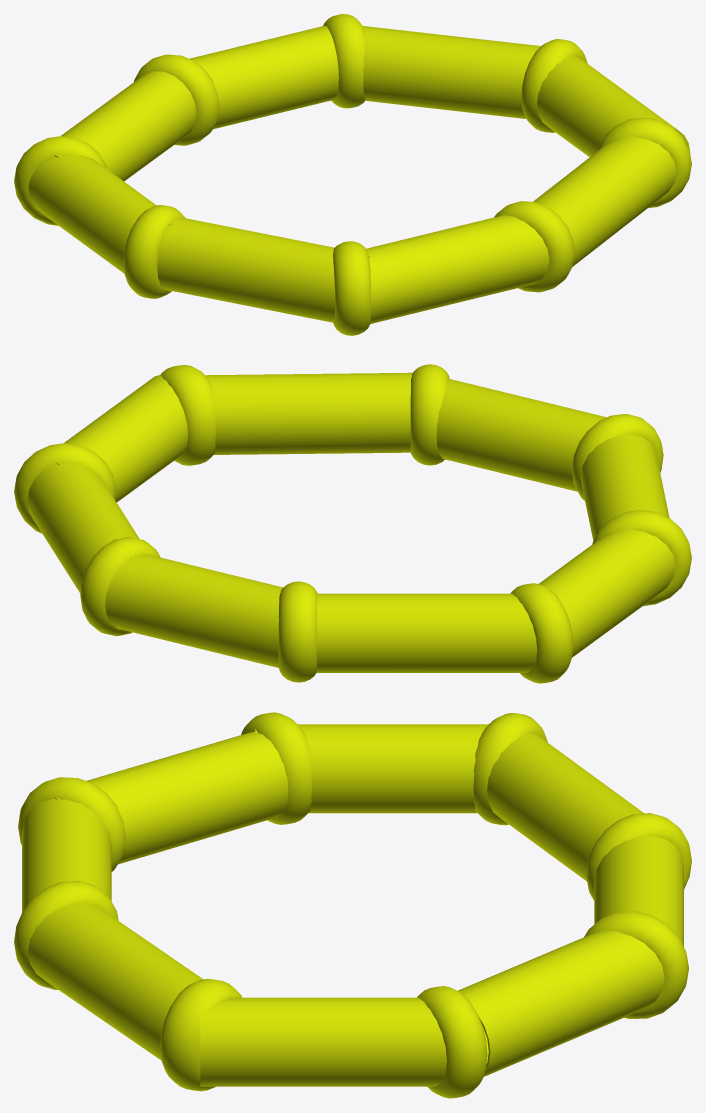
Rendered from DemoCourse2.fbx.
3 views of the same model, one above another, from view 1: azimuth 30°, elevation 25°; view 2: azimuth 150°, elevation 25°; view 3: azimuth 270°, elevation 25° (orthographic). The views are drawn at different scales.
Parts seen in each view (by area): view 1: group6_pasted__pCylinder7; view 2: group6_pasted__pCylinder7; view 3: group6_pasted__pCylinder7.
Part boxes in pixels (box(x1,y1,x2,y2)): group6_pasted__pCylinder7: box(14, 14, 691, 335); group6_pasted__pCylinder7: box(14, 364, 691, 683); group6_pasted__pCylinder7: box(14, 712, 691, 1098).
Size of the model in its own units: 16.8 by 2.55 by 15.12.
